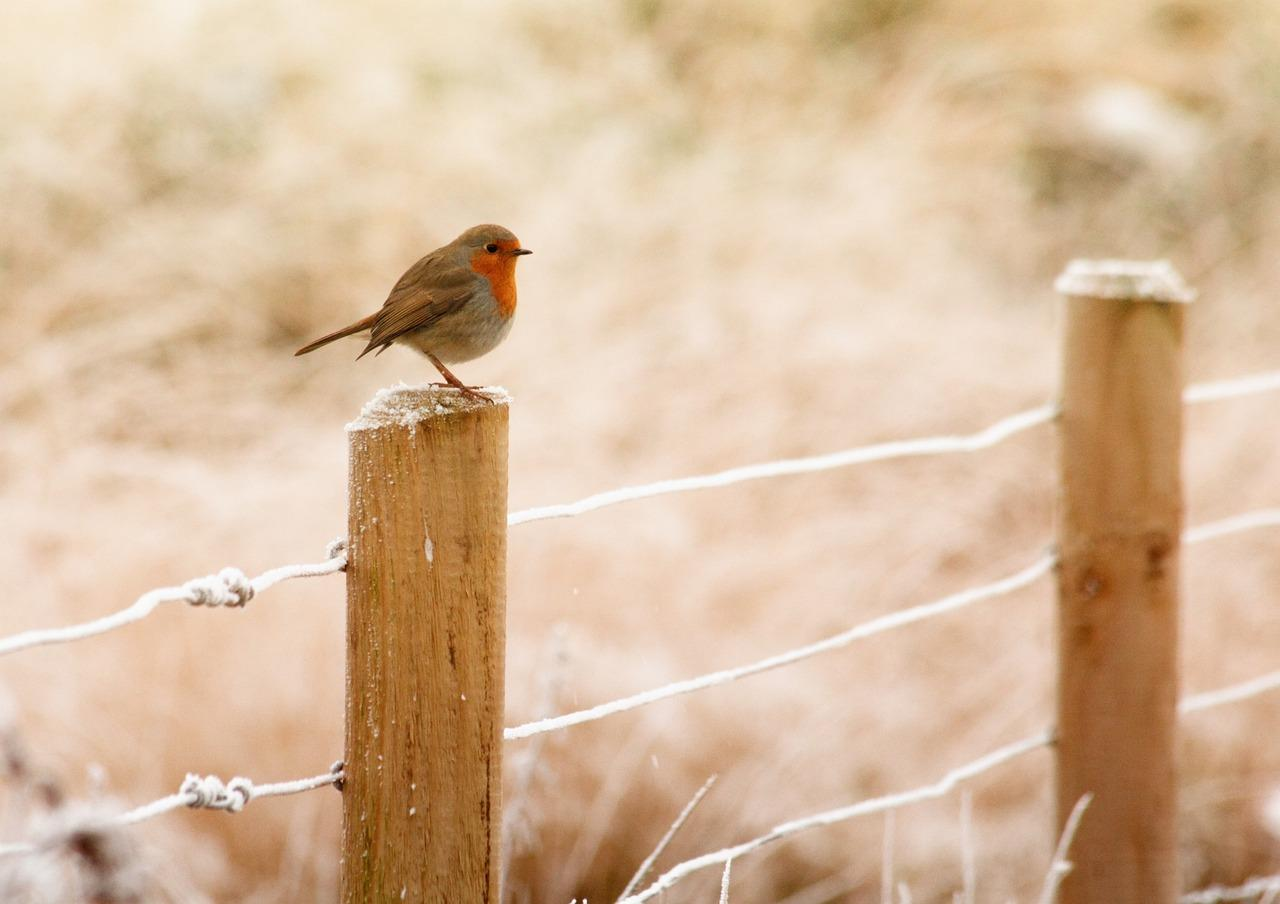bird: (297, 224, 531, 380)
